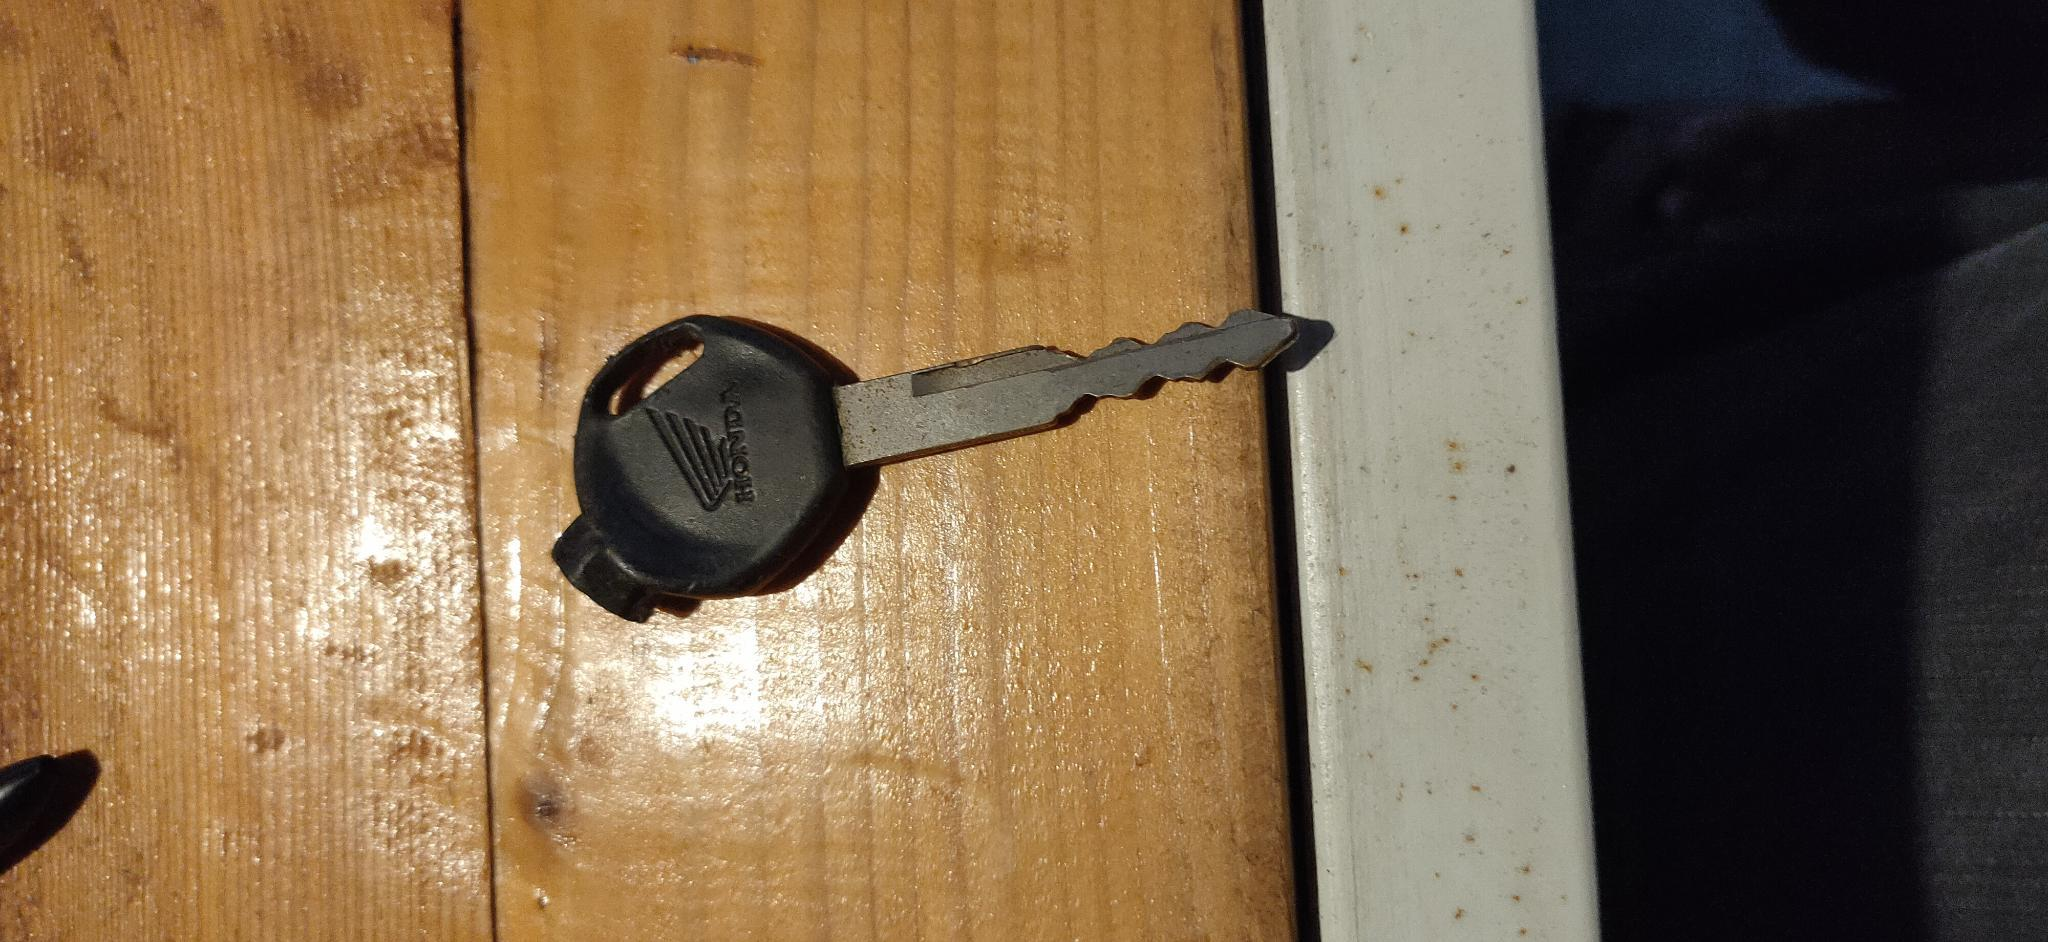keys: (545, 284, 1317, 628)
